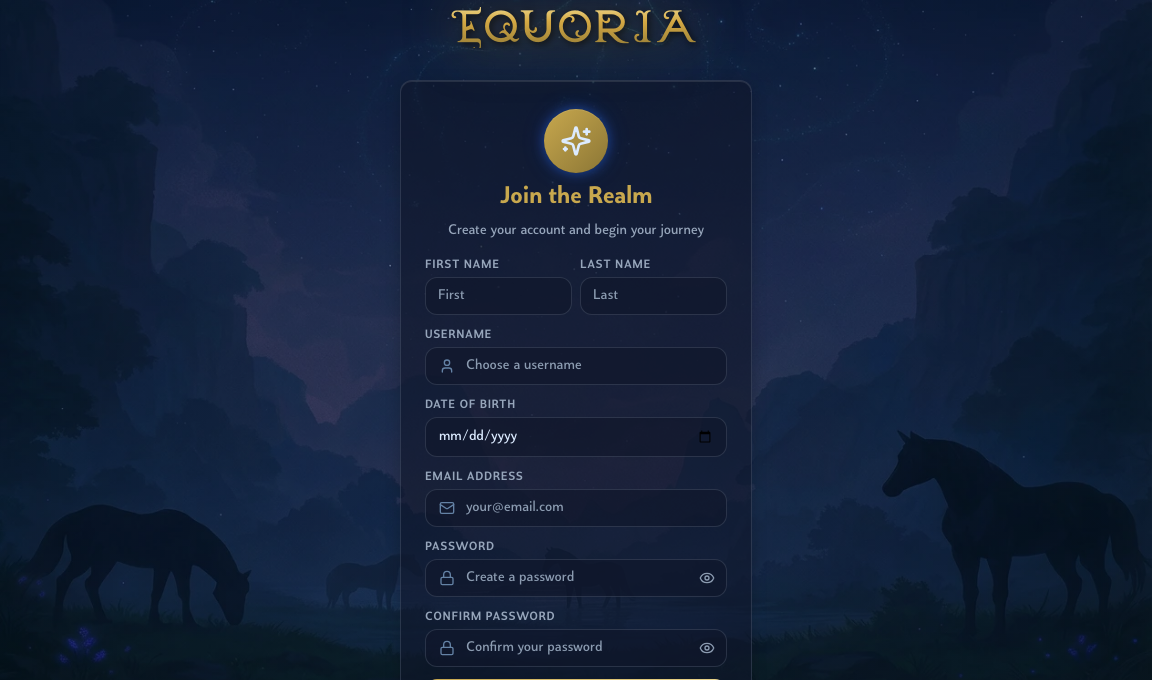
it: RegisterPage › AC-2: Client-Side Validation › blocks submission and shows an error when date of birth is empty (COPPA)
Step 1. Type "John" into the field labelled "First Name" → (498, 296), box [425,277,572,315]
Step 2. Type "Doe" into the field labelled "Last Name" → (654, 296), box [580,277,727,315]
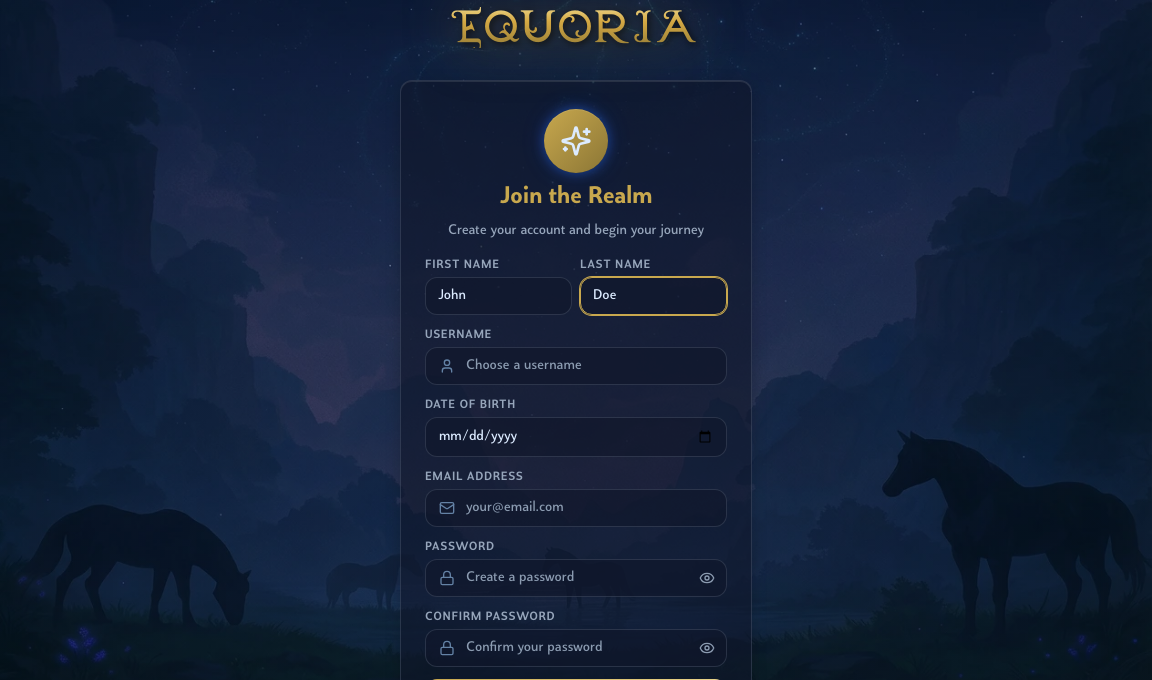
Step 3. Type "johndoe" into the field labelled "Username" → (576, 366), box [425,347,727,385]
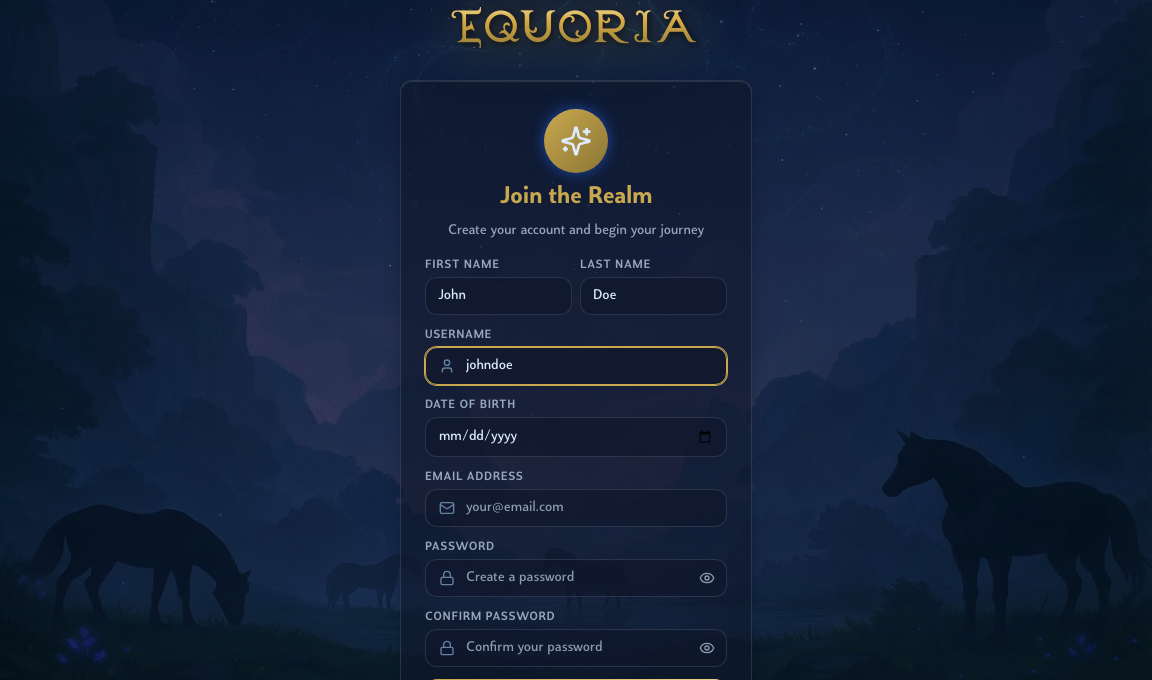
Step 4. Type "john@example.com" into the field labelled "Email Address" → (576, 508), box [425,489,727,527]
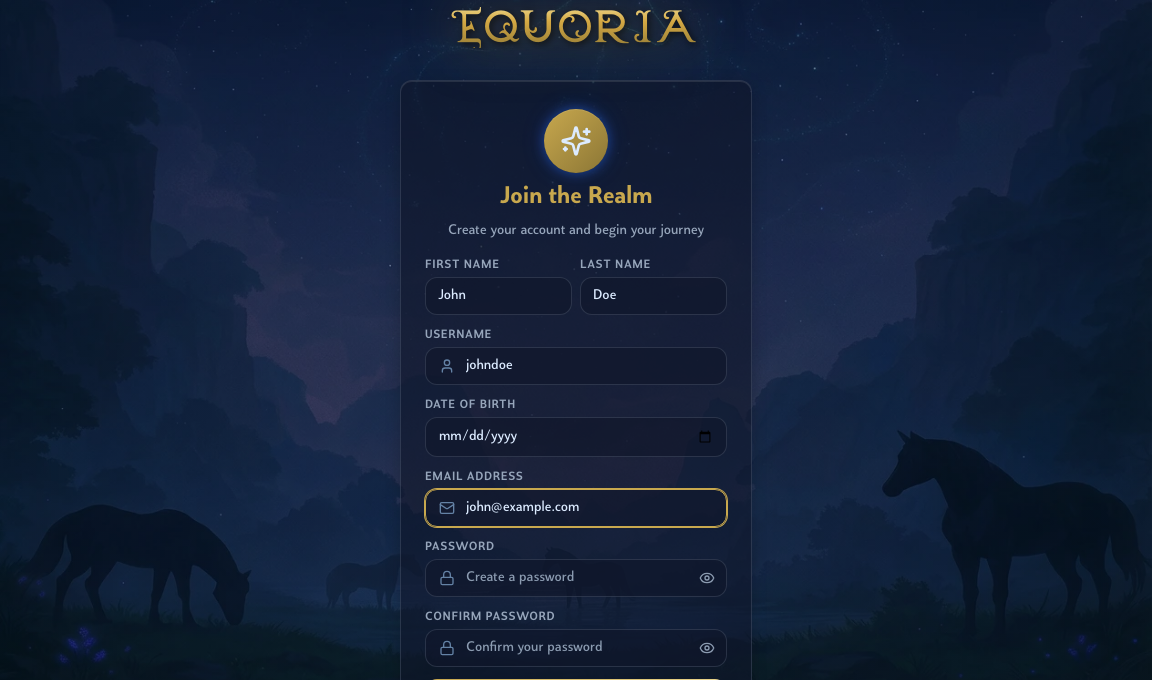
Step 5. Type "SecurePass123@" into the password field labelled "Password" → (576, 578), box [425,559,727,597]
(page scrolled)
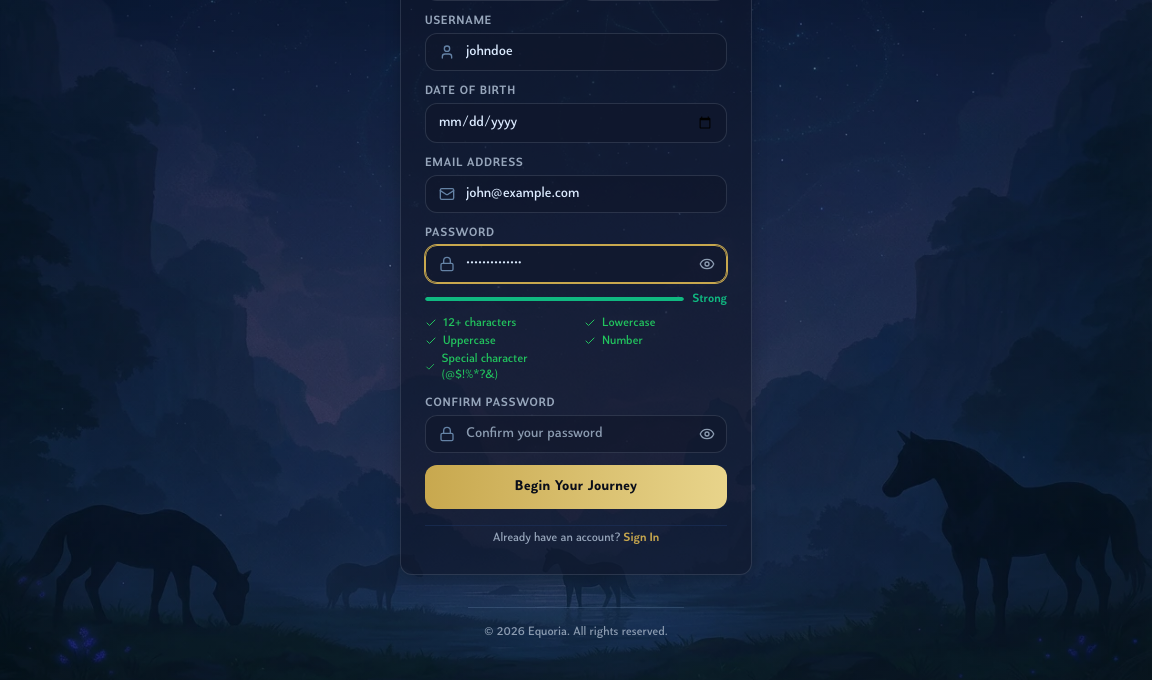
Step 6. Type "SecurePass123@" into the password field labelled "Confirm Password" → (576, 434), box [425,415,727,453]
(page scrolled)
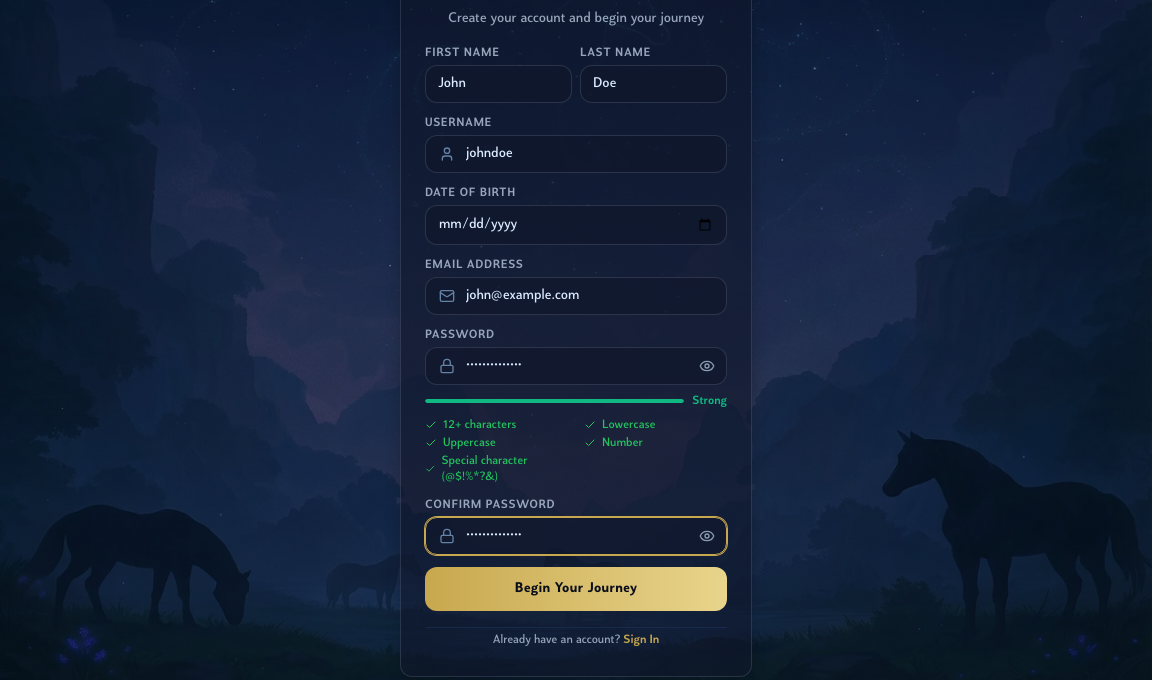
Step 7. Submit the form, box [425,45,727,611]
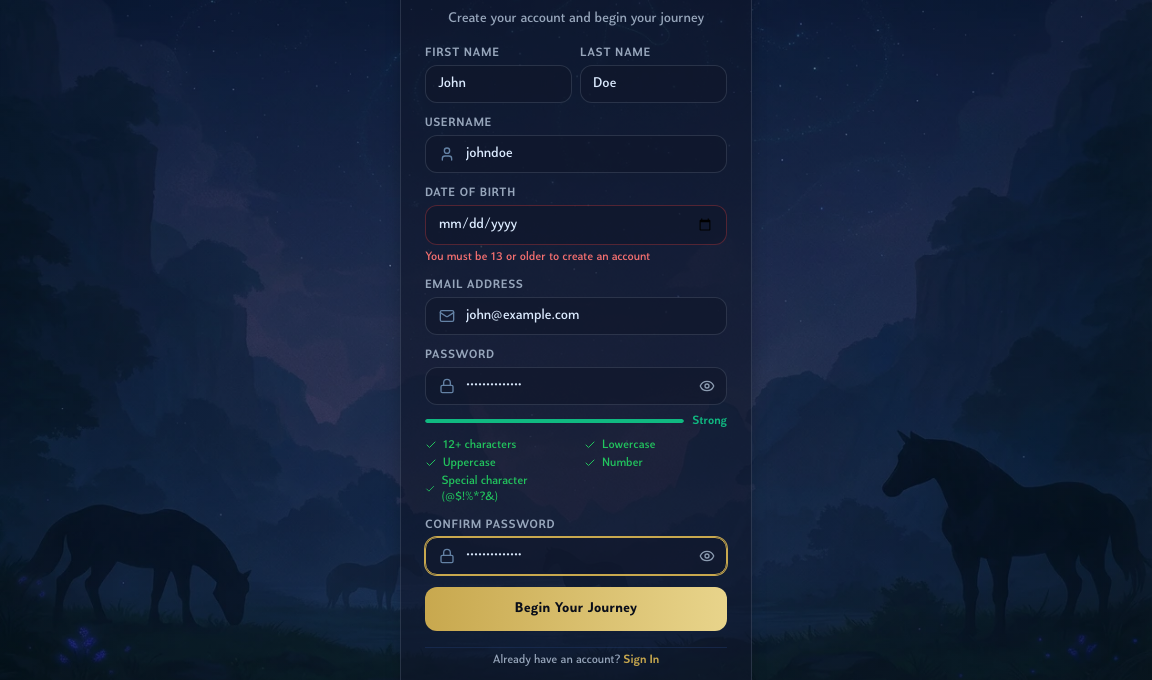
Expected: the text "You must be 13 or older to create an account" is shown, [425,251,650,263]
